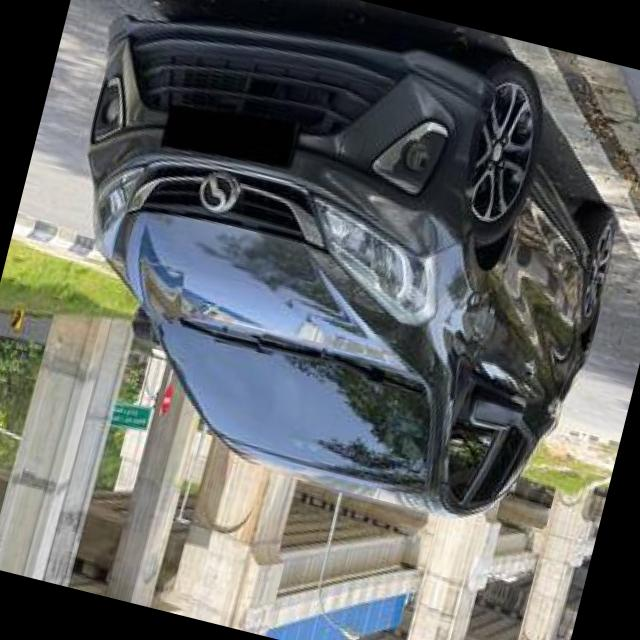PeroduaMyvi: (10, 0, 640, 549)
